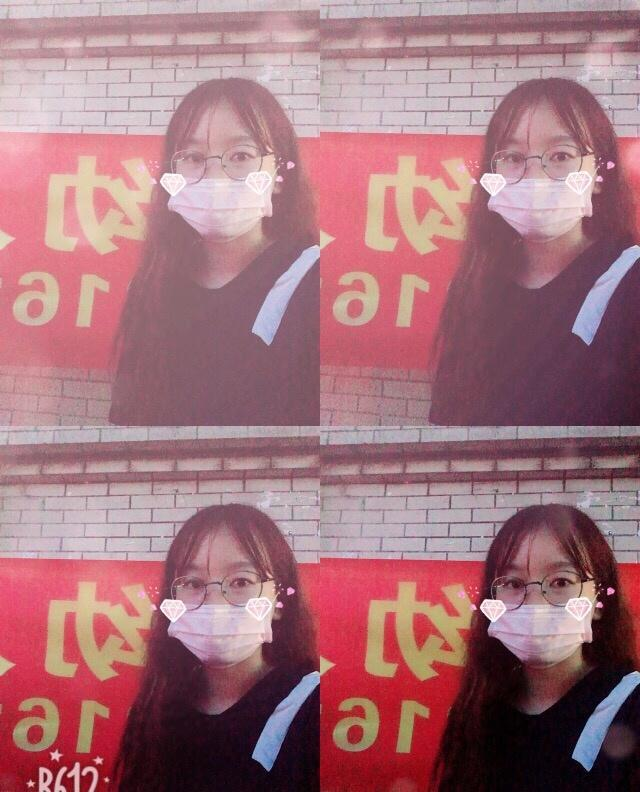OK: (160, 127, 278, 245), (482, 129, 599, 246), (162, 556, 279, 673), (484, 559, 596, 671)
